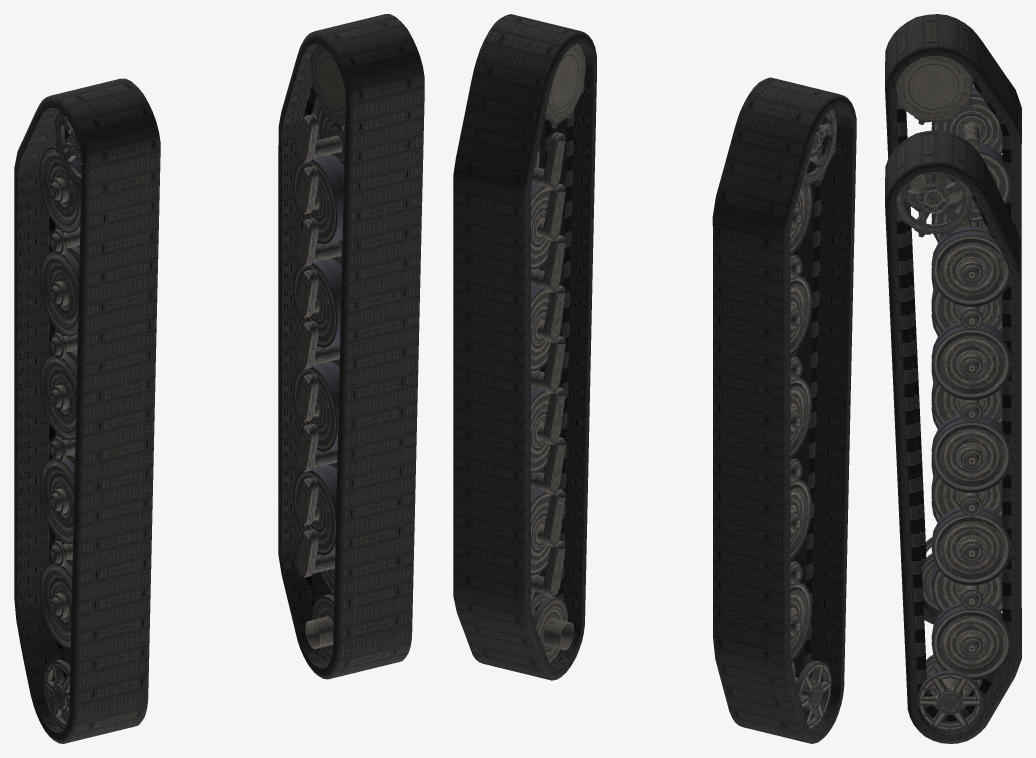
The model's file is Chassis.glb.
The picture shows the model from 3 angles, left to right: view 1: azimuth 30°, elevation 25°; view 2: azimuth 150°, elevation 25°; view 3: azimuth 270°, elevation 25°; orthographic projection. The views are drawn at different scales.
Parts seen in each view (by area): view 1: set_1_group_0, set_0_group_0, set_3_group_0, set_2_group_0; view 2: set_1_group_0, set_0_group_0, set_3_group_0, set_2_group_0; view 3: set_3_group_0, set_0_group_0, set_1_group_0, set_2_group_0.
Part boxes in pixels (<box>): set_1_group_0: <box>14,78,160,743</box>; set_0_group_0: <box>278,14,424,679</box>; set_3_group_0: <box>293,43,345,662</box>; set_2_group_0: <box>39,111,81,729</box>; set_1_group_0: <box>712,77,856,743</box>; set_0_group_0: <box>453,14,596,680</box>; set_3_group_0: <box>531,44,585,663</box>; set_2_group_0: <box>790,109,836,729</box>; set_3_group_0: <box>896,172,1011,730</box>; set_0_group_0: <box>885,130,1021,743</box>; set_1_group_0: <box>885,14,1021,624</box>; set_2_group_0: <box>896,56,1010,611</box>.
Size of the model in its own units: 3.6 by 6.55 by 1.39.
Materials: 4 (4 with a texture image).
